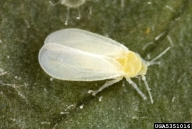whitefly: (37, 28, 170, 105)
